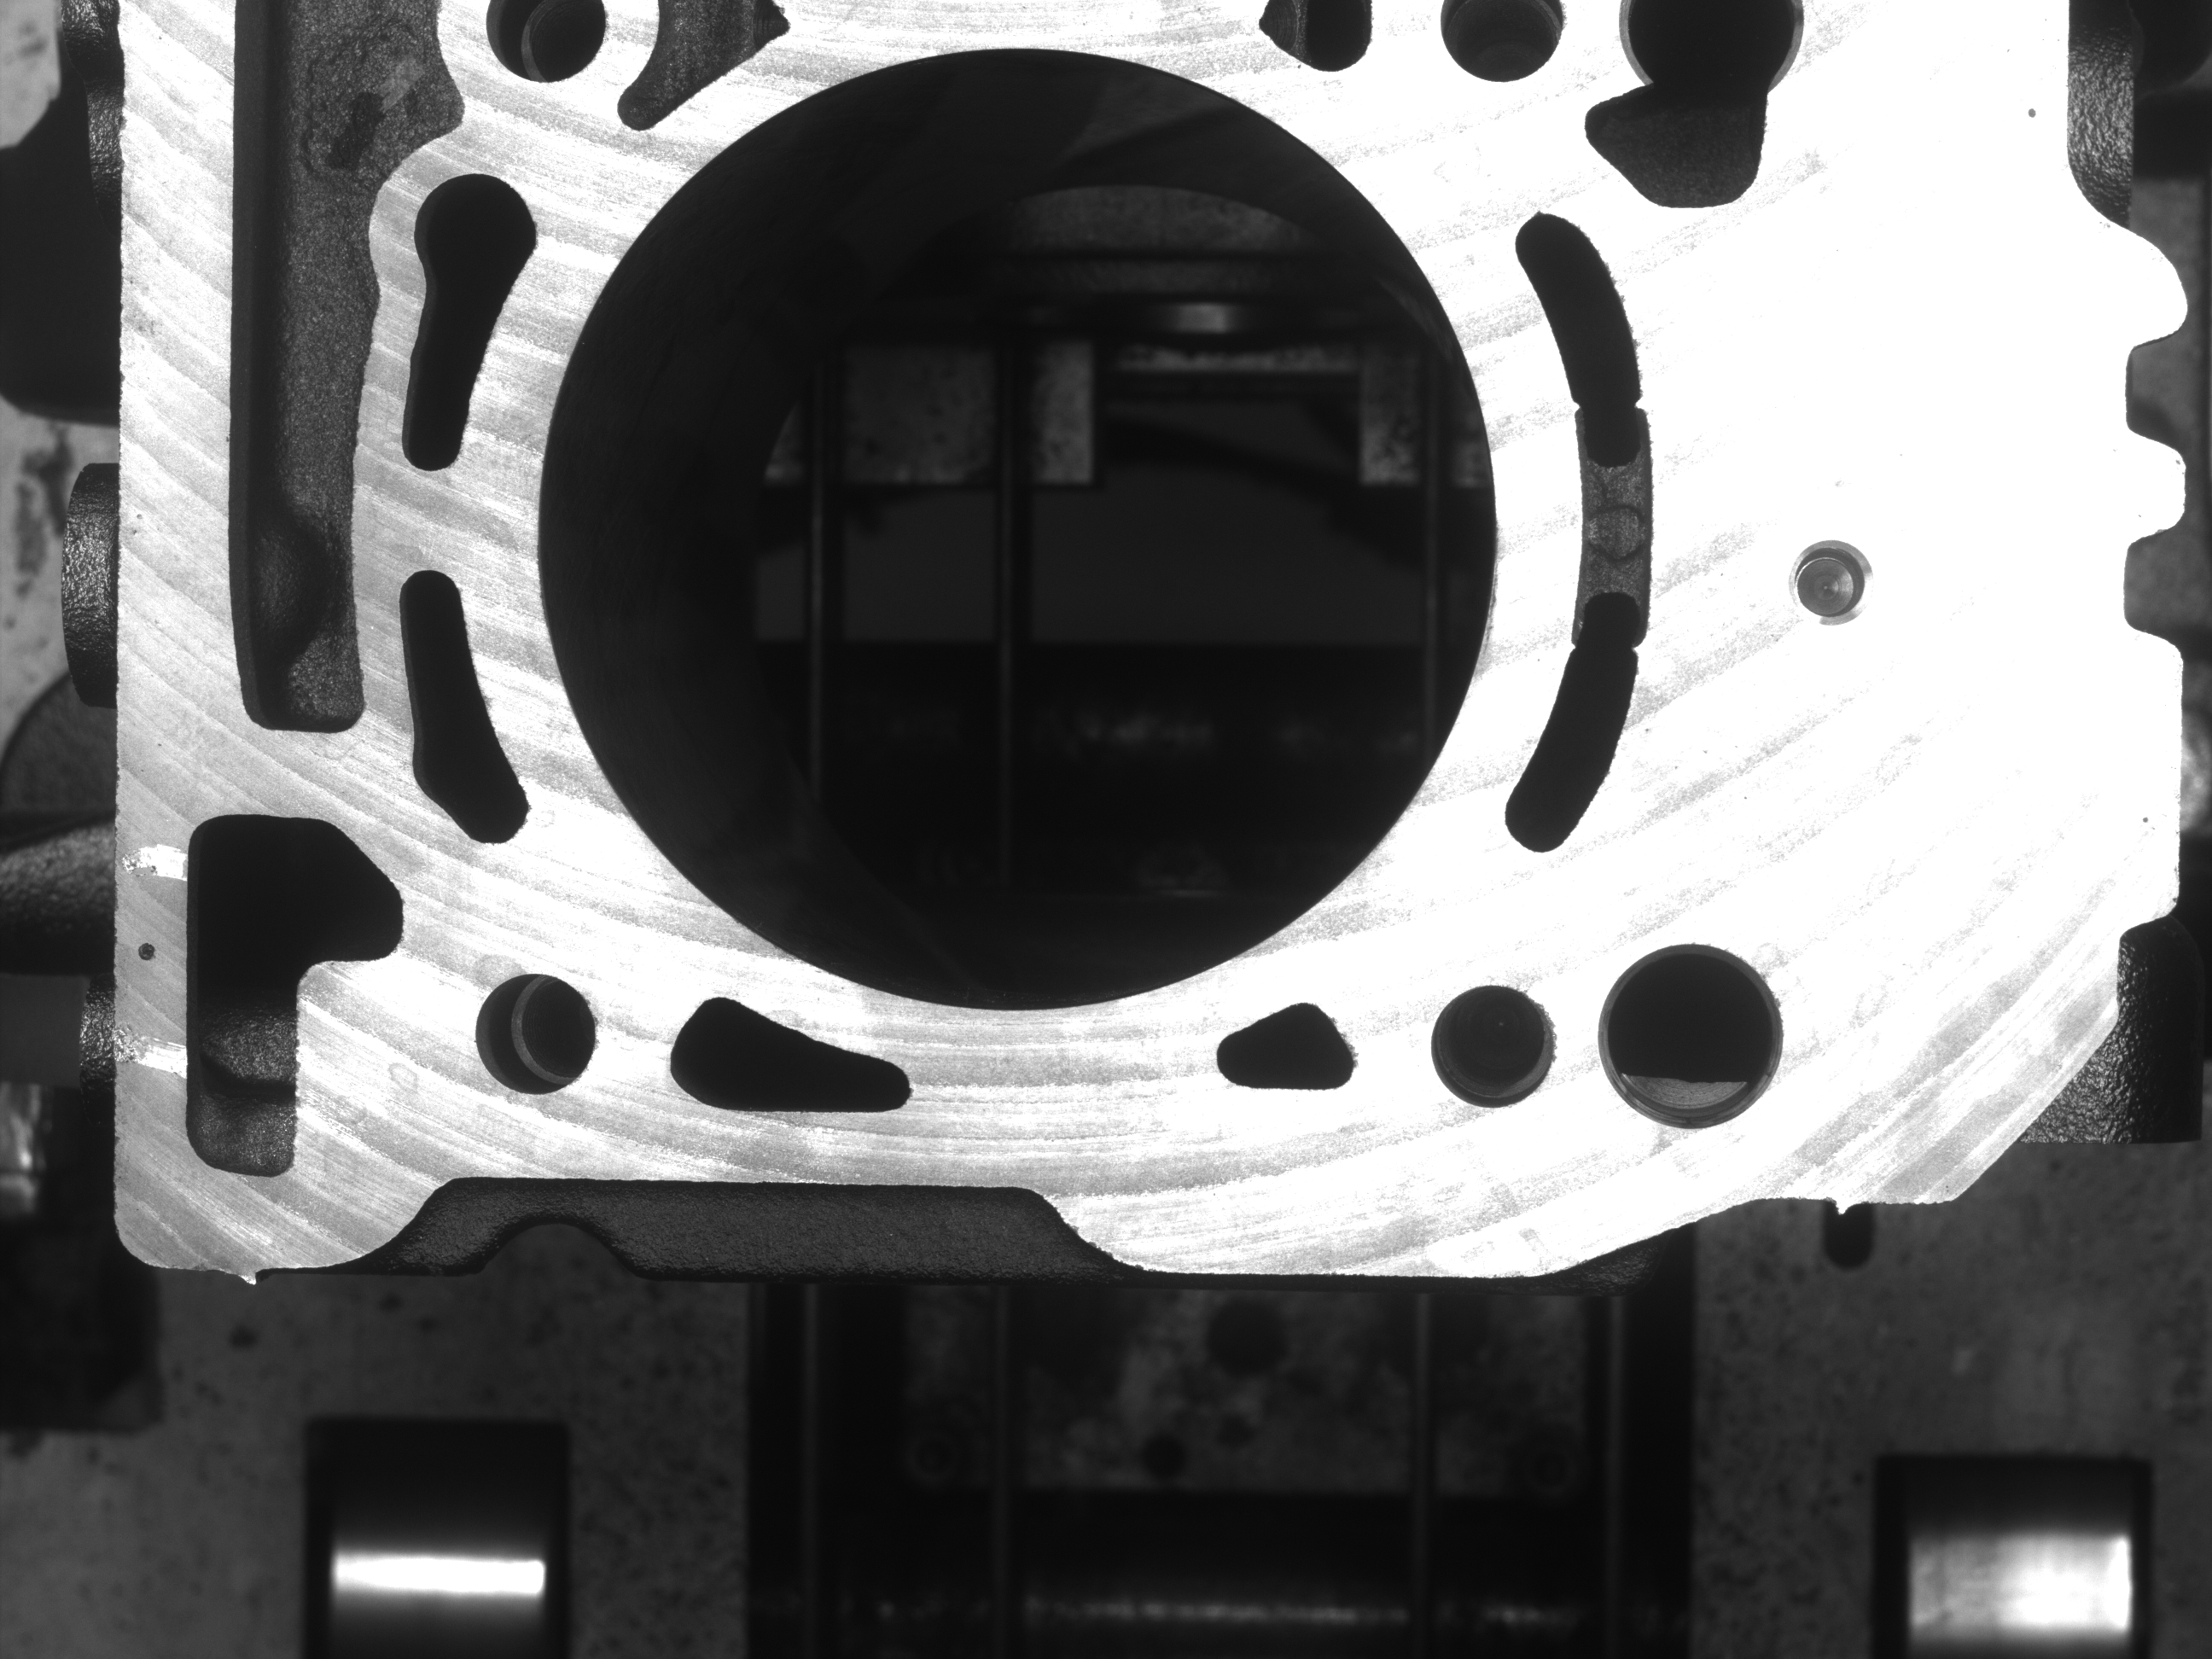crackle: (132, 925, 167, 983)
